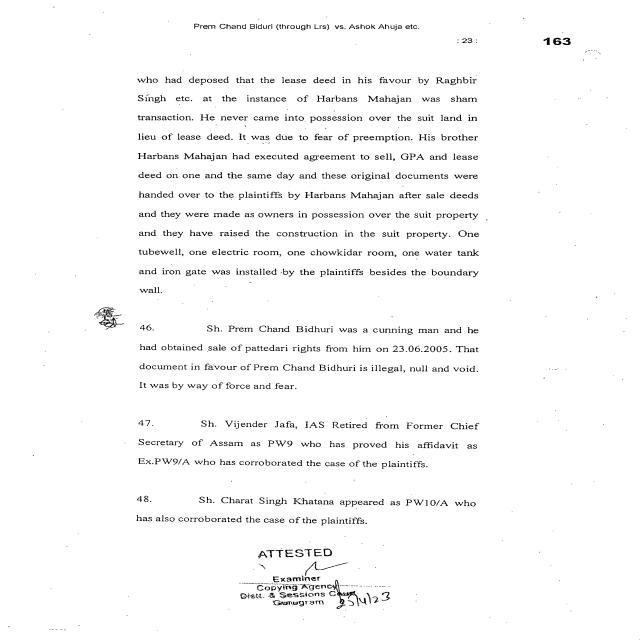page-number: (490, 0, 638, 47)
